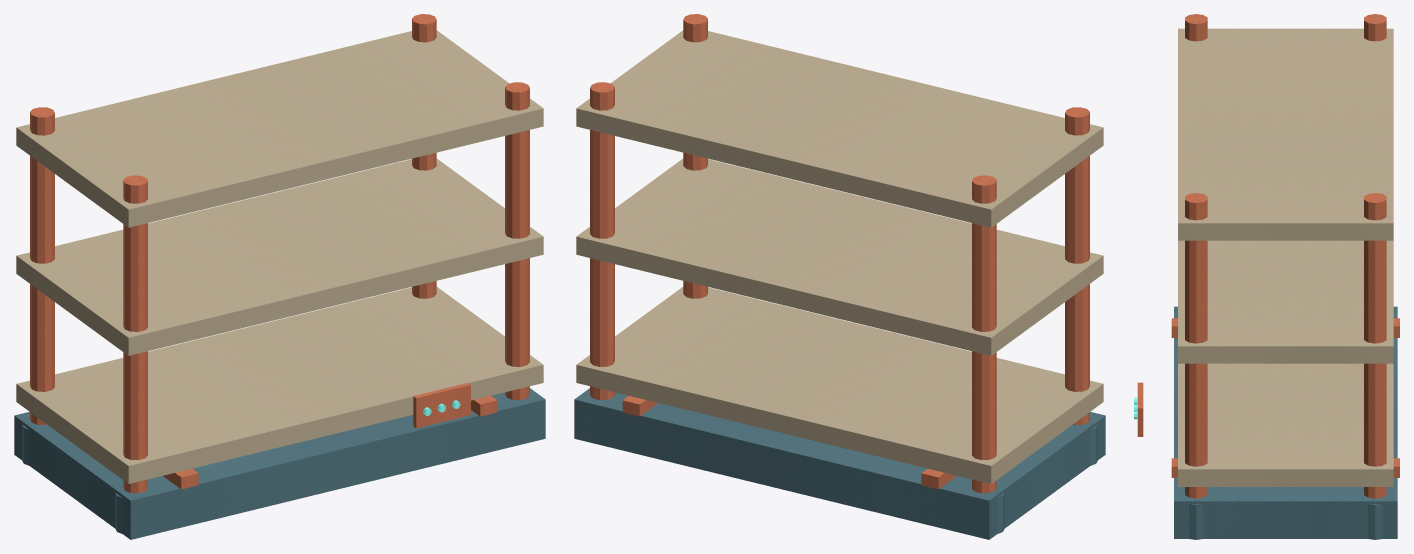
The model's file is atlas100-s045-a06.glb.
3 renders of one model, left to right at view 1: azimuth 30°, elevation 25°; view 2: azimuth 150°, elevation 25°; view 3: azimuth 270°, elevation 25°, orthographic. The views are drawn at different scales.
Parts seen in each view (by area): view 1: atlas100-s045-a06:part-013, atlas100-s045-a06:part-012, atlas100-s045-a06:part-011, atlas100-s045-a06:part-000, atlas100-s045-a06:part-005, atlas100-s045-a06:part-009, atlas100-s045-a06:part-003, atlas100-s045-a06:part-014, atlas100-s045-a06:part-007; view 2: atlas100-s045-a06:part-013, atlas100-s045-a06:part-012, atlas100-s045-a06:part-011, atlas100-s045-a06:part-000, atlas100-s045-a06:part-003, atlas100-s045-a06:part-007, atlas100-s045-a06:part-005, atlas100-s045-a06:part-009; view 3: atlas100-s045-a06:part-013, atlas100-s045-a06:part-012, atlas100-s045-a06:part-011, atlas100-s045-a06:part-000, atlas100-s045-a06:part-007, atlas100-s045-a06:part-009, atlas100-s045-a06:part-003, atlas100-s045-a06:part-005, atlas100-s045-a06:part-008, atlas100-s045-a06:part-010, atlas100-s045-a06:part-014.
Part boxes in pixels (<box>): atlas100-s045-a06:part-013: <box>16,30,543,227</box>; atlas100-s045-a06:part-012: <box>16,158,543,355</box>; atlas100-s045-a06:part-011: <box>16,287,543,483</box>; atlas100-s045-a06:part-000: <box>14,388,545,539</box>; atlas100-s045-a06:part-005: <box>123,175,147,493</box>; atlas100-s045-a06:part-009: <box>505,82,529,400</box>; atlas100-s045-a06:part-003: <box>30,107,54,424</box>; atlas100-s045-a06:part-014: <box>413,383,470,428</box>; atlas100-s045-a06:part-007: <box>412,14,436,298</box>; atlas100-s045-a06:part-013: <box>576,30,1103,227</box>; atlas100-s045-a06:part-012: <box>576,158,1103,355</box>; atlas100-s045-a06:part-011: <box>576,287,1103,483</box>; atlas100-s045-a06:part-000: <box>574,388,1105,539</box>; atlas100-s045-a06:part-003: <box>972,175,996,493</box>; atlas100-s045-a06:part-007: <box>590,82,614,400</box>; atlas100-s045-a06:part-005: <box>1065,107,1089,424</box>; atlas100-s045-a06:part-009: <box>683,14,707,298</box>; atlas100-s045-a06:part-013: <box>1178,28,1393,240</box>; atlas100-s045-a06:part-012: <box>1178,240,1393,363</box>; atlas100-s045-a06:part-011: <box>1178,363,1393,486</box>; atlas100-s045-a06:part-000: <box>1174,306,1397,538</box>; atlas100-s045-a06:part-007: <box>1364,193,1386,498</box>; atlas100-s045-a06:part-009: <box>1185,193,1207,498</box>; atlas100-s045-a06:part-003: <box>1364,14,1386,41</box>; atlas100-s045-a06:part-005: <box>1185,14,1207,41</box>; atlas100-s045-a06:part-008: <box>1368,504,1382,539</box>; atlas100-s045-a06:part-010: <box>1189,504,1203,539</box>; atlas100-s045-a06:part-014: <box>1137,382,1143,436</box>.
Bounding box in the file's own units: 2.91 × 2.3 × 1.66.
4 materials, 4 textured.
